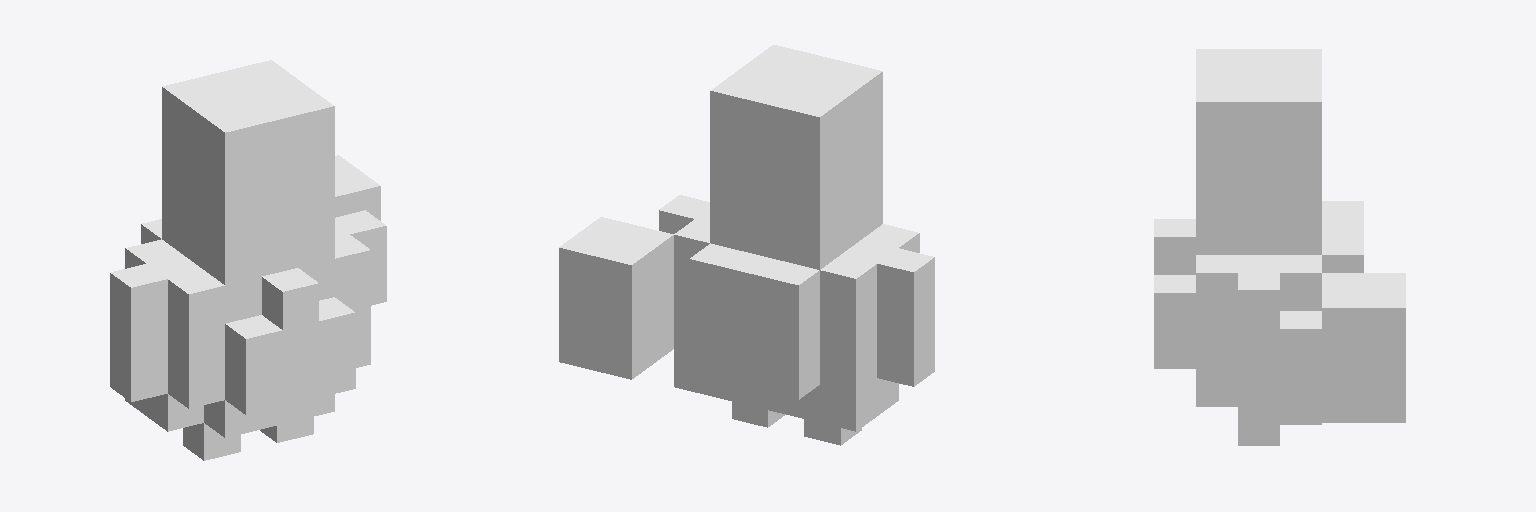
Rendered from SkufAnton.obj.
3 renders of one model, left to right at view 1: azimuth 30°, elevation 25°; view 2: azimuth 150°, elevation 25°; view 3: azimuth 270°, elevation 25°, orthographic.
Visible parts, largest first — view 1: GnomeBase; view 2: GnomeBase; view 3: GnomeBase.
Boxes of the visible parts, box(x1,y1,x2,y2) form: GnomeBase: box(110, 60, 386, 460); GnomeBase: box(559, 45, 934, 445); GnomeBase: box(1154, 49, 1405, 445).
Bounding box in the file's own units: 0.8 × 0.9 × 0.6.